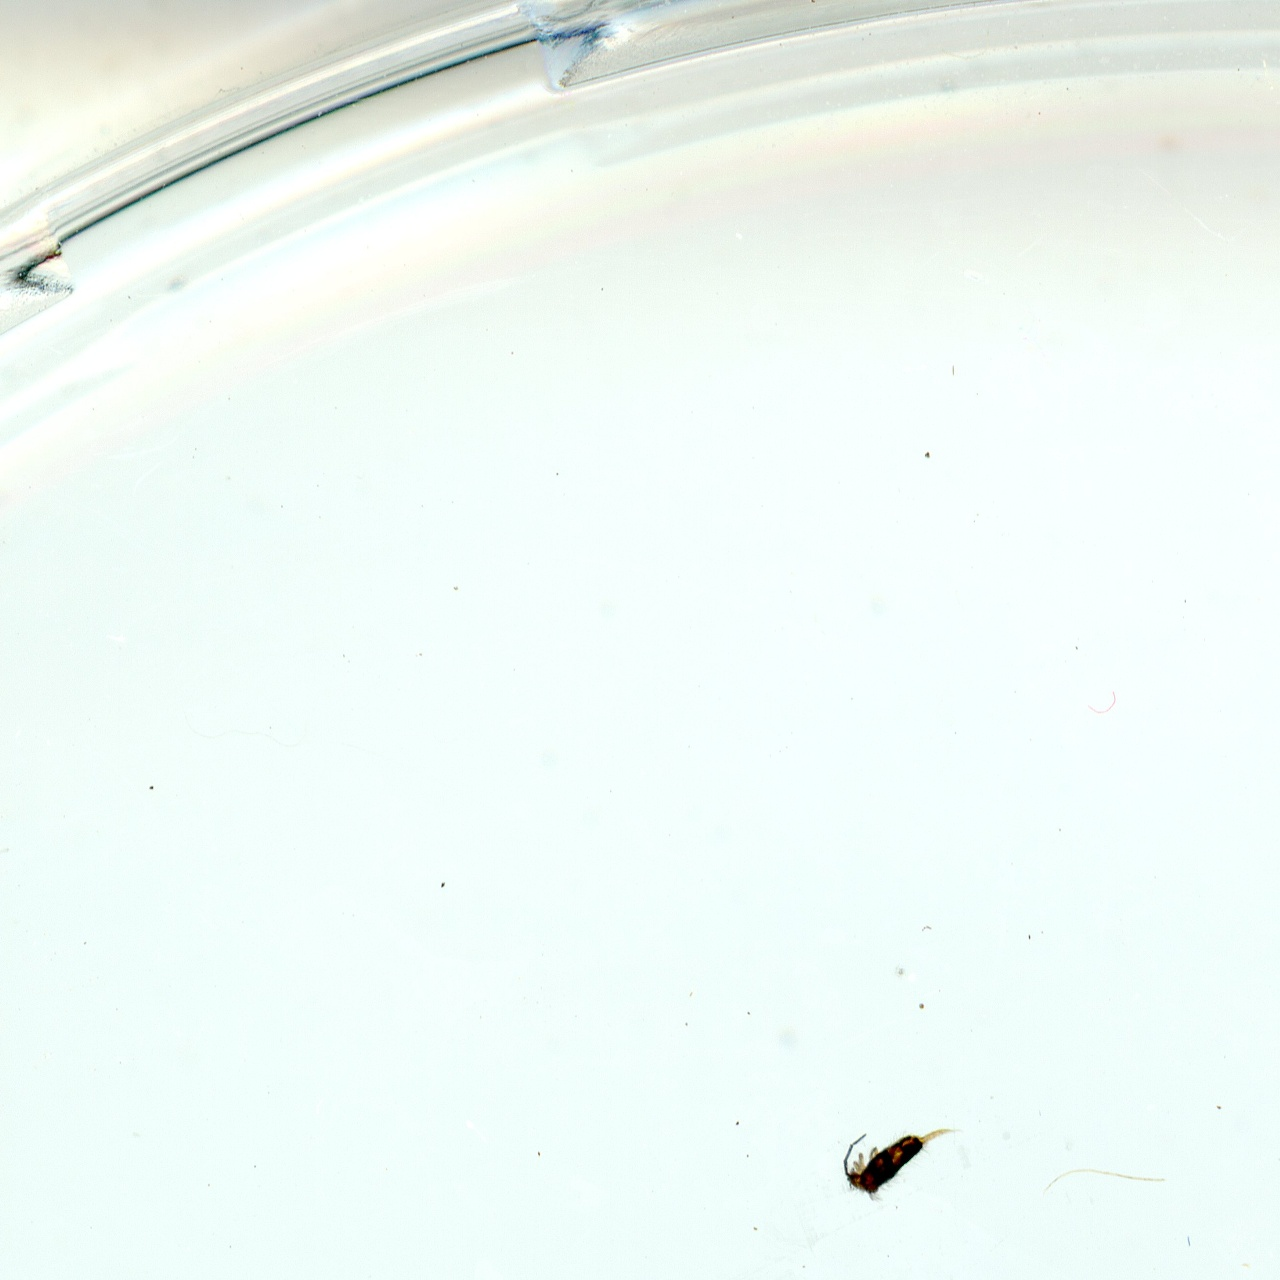arthropod: (836, 1121, 958, 1201)
